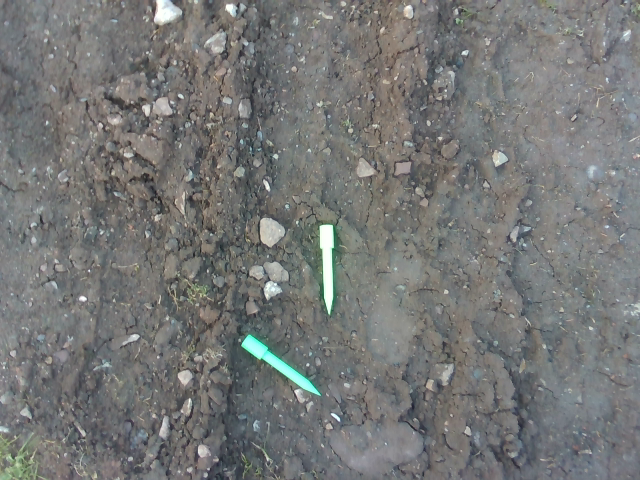Probe: (238, 330, 325, 400), (316, 220, 337, 318)
